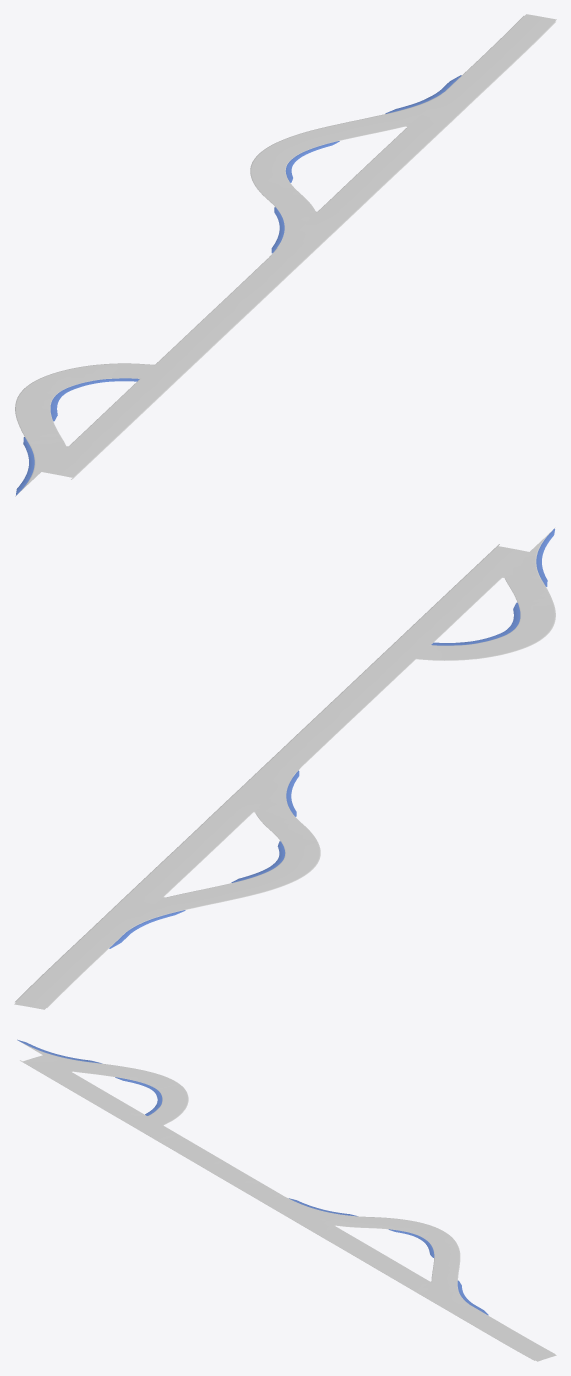
The model's file is track_road_sector4.dae.
3 views of the same model, one above another, from view 1: azimuth 30°, elevation 25°; view 2: azimuth 210°, elevation 25°; view 3: azimuth 270°, elevation 25° (orthographic). The views are drawn at different scales.
Visible parts, largest first — view 1: road_track_sector4_a6000; view 2: road_track_sector4_a6000; view 3: road_track_sector4_a6000.
Part boxes in pixels (x1,y1,x2,y2): road_track_sector4_a6000: (15, 14, 556, 496); road_track_sector4_a6000: (14, 527, 555, 1009); road_track_sector4_a6000: (17, 1039, 556, 1361).
Size of the model in its own units: 328 by 233 by 0.1041.
